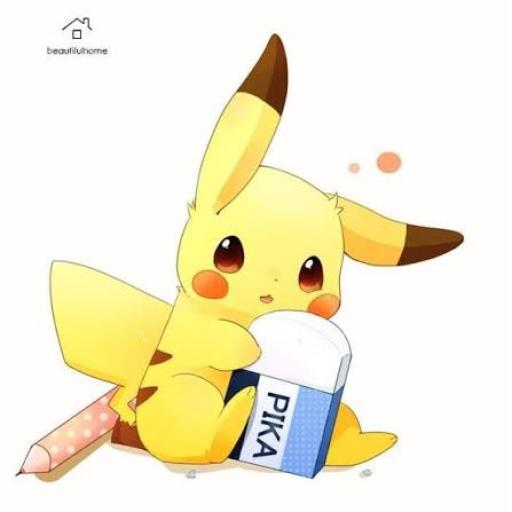Pikachu: (47, 33, 463, 466)
